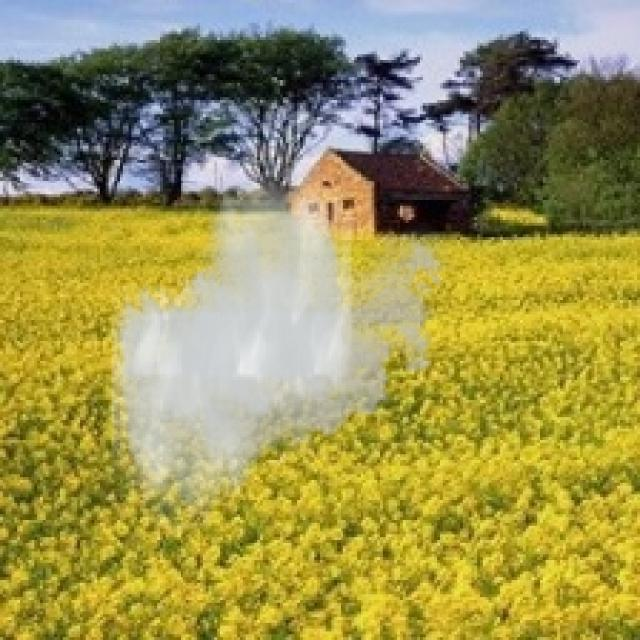Smoke: (112, 160, 454, 529)
